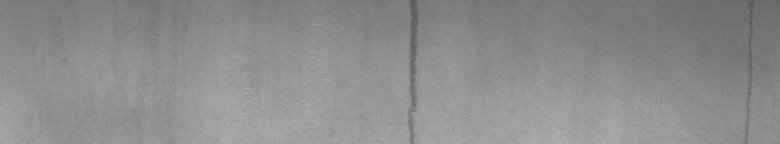hd: (405, 4, 421, 136)
